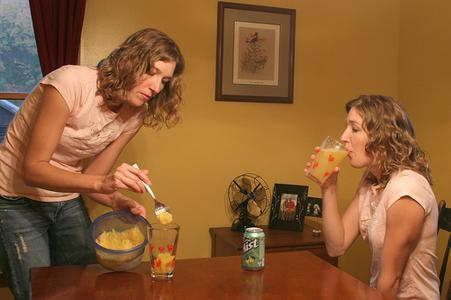person: (305, 94, 443, 300)
